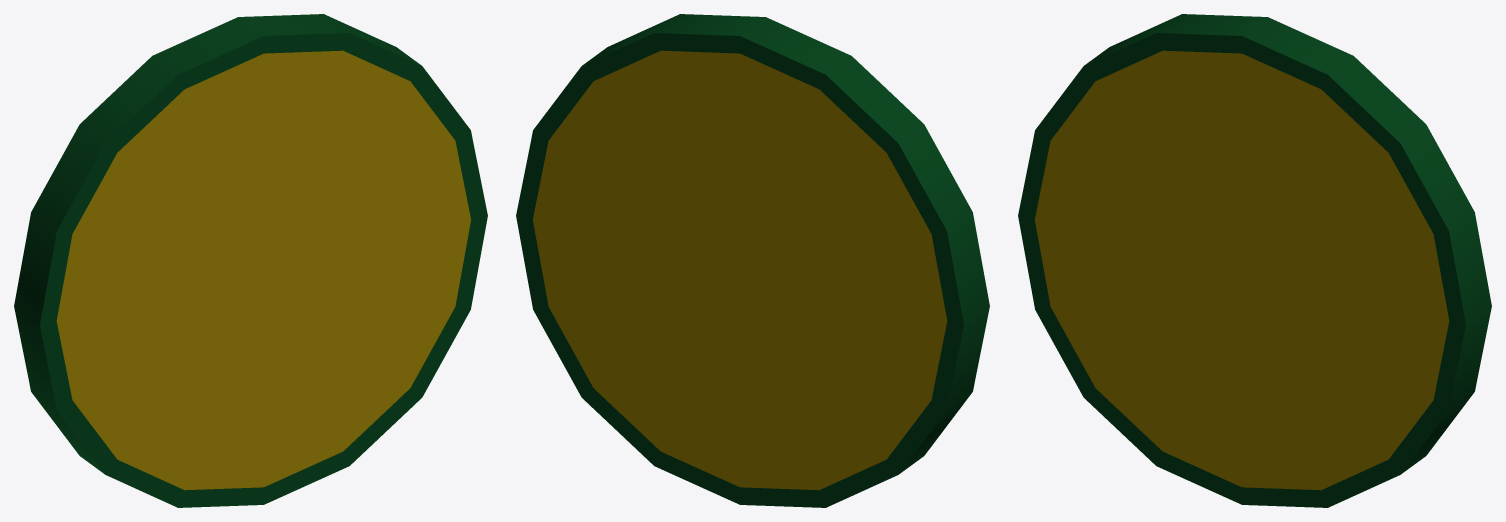
File: Aehobakjeonkkaebi.fbx
3 renders of one model, left to right at view 1: azimuth 30°, elevation 25°; view 2: azimuth 150°, elevation 25°; view 3: azimuth 330°, elevation 25°, orthographic.
Parts seen in each view (by area): view 1: Aehobakjeonkkaebi; view 2: Aehobakjeonkkaebi; view 3: Aehobakjeonkkaebi.
Boxes of the visible parts, <box> form: Aehobakjeonkkaebi: <box>14,14,487,507</box>; Aehobakjeonkkaebi: <box>516,14,989,507</box>; Aehobakjeonkkaebi: <box>1018,14,1491,507</box>.
Bounding box in the file's own units: 49.16 × 49.16 × 4.92.
